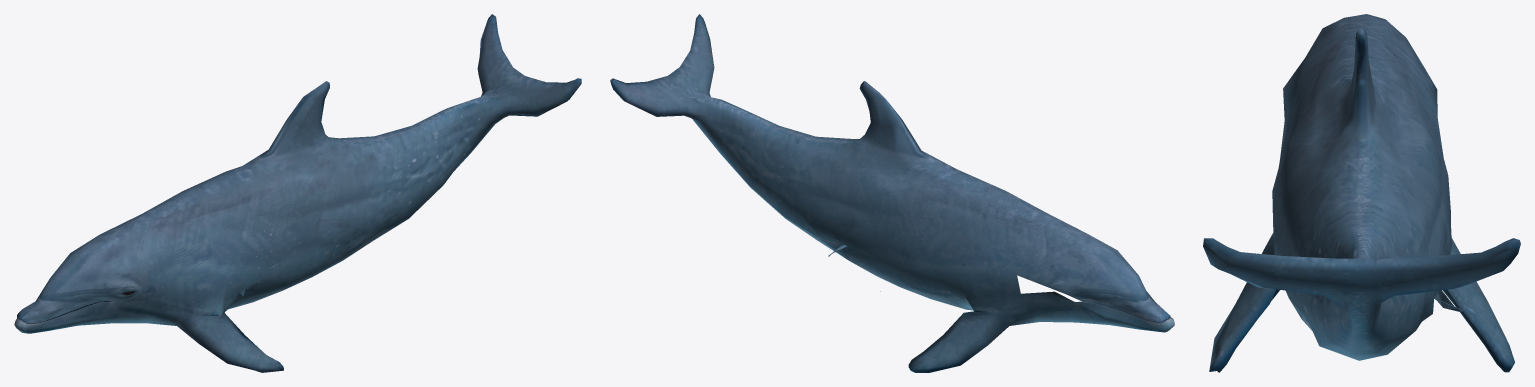
Rendered from dolphin.glb.
3 views of the same model, side by side, from view 1: azimuth 30°, elevation 25°; view 2: azimuth 150°, elevation 25°; view 3: azimuth 270°, elevation 25° (orthographic). The views are drawn at different scales.
Visible parts, largest first — view 1: tripo_node_c787a40e; view 2: tripo_node_c787a40e; view 3: tripo_node_c787a40e.
Boxes of the visible parts, <box> form: tripo_node_c787a40e: <box>14,14,581,372</box>; tripo_node_c787a40e: <box>610,14,1174,372</box>; tripo_node_c787a40e: <box>1203,14,1520,372</box>.
Size of the model in its own units: 97.91 by 42.85 by 29.35.
1 material, 1 textured.
